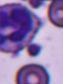N: (0, 3, 36, 52)
